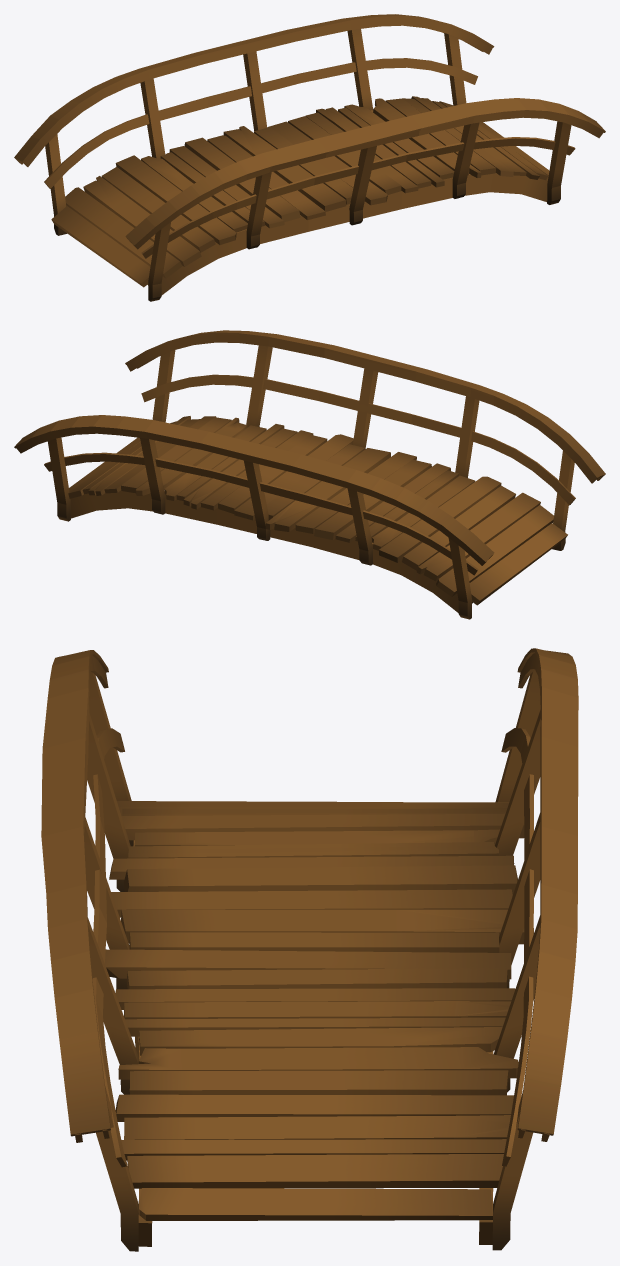
Rendered from RoadBridgeLrg-01.FBX.
3 renders of one model, top to bottom at view 1: azimuth 30°, elevation 25°; view 2: azimuth 150°, elevation 25°; view 3: azimuth 270°, elevation 25°, orthographic. The views are drawn at different scales.
Visible parts, largest first — view 1: RoadBridgeLrg-01; view 2: RoadBridgeLrg-01; view 3: RoadBridgeLrg-01.
Boxes of the visible parts, x1,y1,x2,y2 form: RoadBridgeLrg-01: (14, 14, 605, 301); RoadBridgeLrg-01: (14, 330, 605, 619); RoadBridgeLrg-01: (41, 648, 578, 1251).
Bounding box in the file's own units: 607 × 167 × 299.
Materials: 1 (1 with a texture image).
